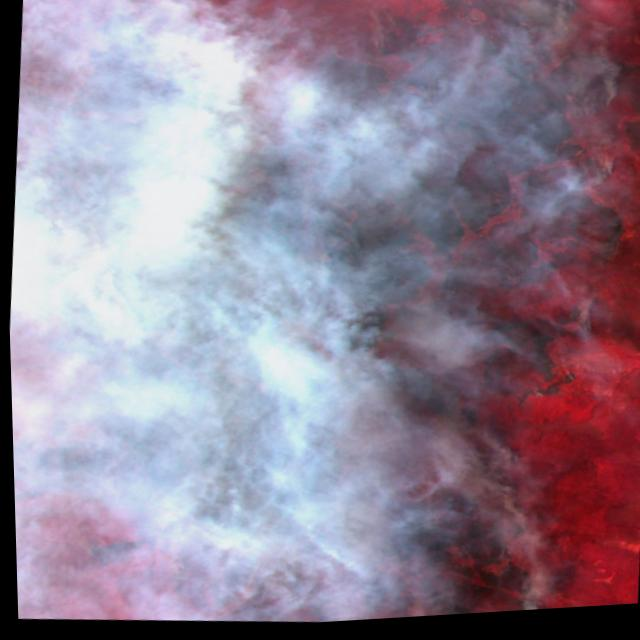fire: (319, 0, 640, 625), (10, 3, 272, 182), (53, 510, 233, 632)
